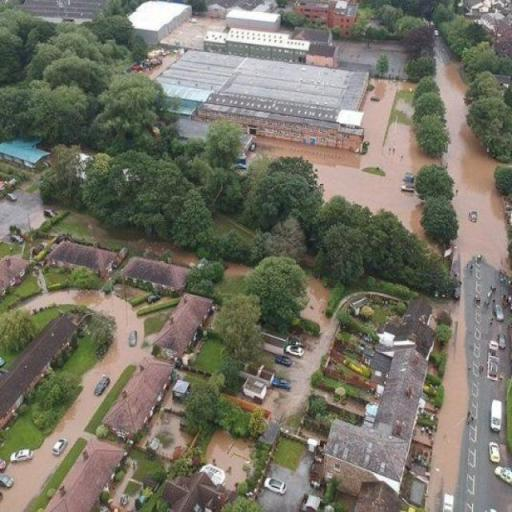flood: (427, 38, 510, 512), (0, 291, 151, 512), (316, 79, 441, 237), (265, 277, 334, 420), (256, 136, 362, 168), (206, 430, 252, 492), (142, 48, 185, 79), (224, 262, 253, 279)
house: (0, 314, 77, 428), (317, 415, 410, 496), (39, 444, 130, 512), (98, 364, 172, 444), (148, 289, 210, 365), (247, 108, 369, 146), (210, 26, 308, 59), (122, 2, 198, 43), (166, 468, 235, 512), (120, 257, 186, 293), (49, 240, 113, 276), (393, 317, 437, 359), (0, 255, 30, 301), (0, 143, 51, 167), (308, 1, 354, 27), (309, 45, 338, 67)
